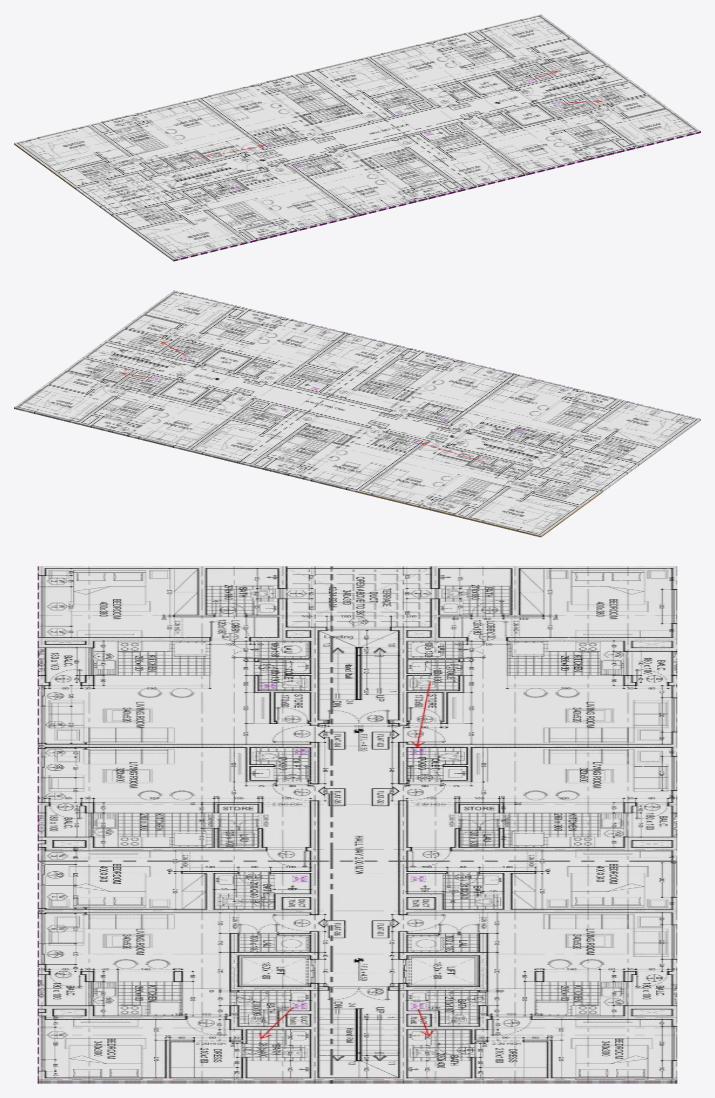
The model's file is First floor plans.compressed.glb.
The picture shows the model from 3 angles, top to bottom: view 1: azimuth 30°, elevation 25°; view 2: azimuth 150°, elevation 25°; view 3: azimuth 270°, elevation 25°; orthographic projection. The views are drawn at different scales.
Visible parts, largest first — view 1: HALL WAY.001, flat-04.001, flat-06.001, flat-03.001, flat-01.001, flat-05.001, flat-02.001; view 2: HALL WAY.001, flat-03.001, flat-04.001, flat-01.001, flat-06.001, flat-02.001, flat-05.001; view 3: HALL WAY.001, flat-06.001, flat-04.001, flat-01.001, flat-03.001, flat-05.001, flat-02.001.
Part boxes in pixels (left/top/right/bottom): HALL WAY.001: left=75, top=64, right=631, bottom=216; flat-04.001: left=112, top=165, right=357, bottom=261; flat-06.001: left=458, top=81, right=700, bottom=175; flat-03.001: left=14, top=98, right=265, bottom=188; flat-01.001: left=367, top=14, right=609, bottom=106; flat-05.001: left=289, top=123, right=526, bottom=216; flat-02.001: left=198, top=57, right=435, bottom=147; HALL WAY.001: left=83, top=341, right=639, bottom=492; flat-03.001: left=357, top=441, right=601, bottom=537; flat-04.001: left=448, top=374, right=700, bottom=464; flat-01.001: left=14, top=357, right=255, bottom=451; flat-06.001: left=105, top=290, right=347, bottom=383; flat-02.001: left=188, top=399, right=424, bottom=492; flat-05.001: left=279, top=333, right=516, bottom=424; HALL WAY.001: left=282, top=566, right=433, bottom=1083; flat-06.001: left=37, top=911, right=314, bottom=1083; flat-04.001: left=37, top=566, right=313, bottom=748; flat-01.001: left=403, top=910, right=677, bottom=1083; flat-03.001: left=402, top=566, right=677, bottom=745; flat-05.001: left=37, top=746, right=313, bottom=911; flat-02.001: left=403, top=746, right=677, bottom=911.
Bounding box in the file's own units: 10.88 × 0.0292 × 5.71.
2 materials, 2 textured.
